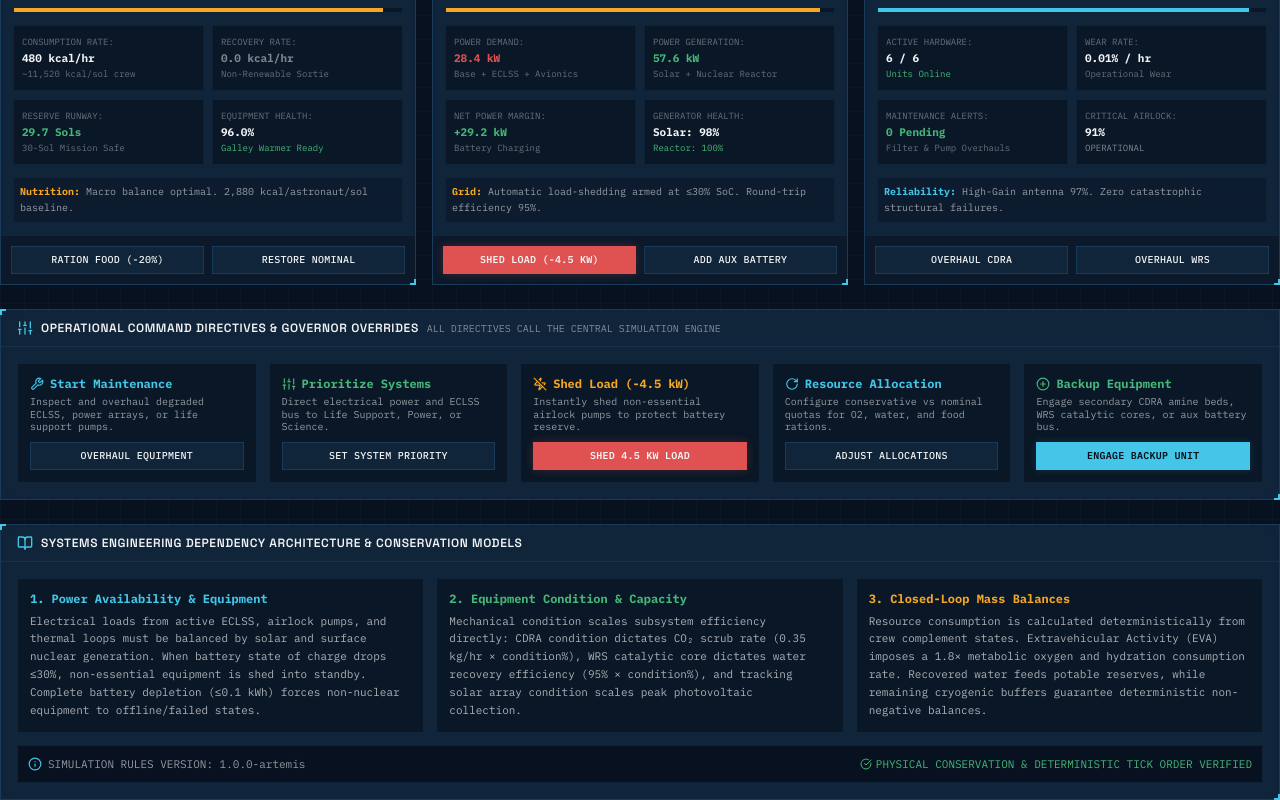
OPERATE Habitat Management Module & Subsystem Dependencies › 4. OPERATE Habitat View UI Rendering & Navigation › opens maintenance overhaul dialog and executes maintenance on equipment
Later steps or results of the test are not shown.
(page scrolled)
Step 1. Click the button "OVERHAUL EQUIPMENT" → (137,456), box [30,442,244,470]
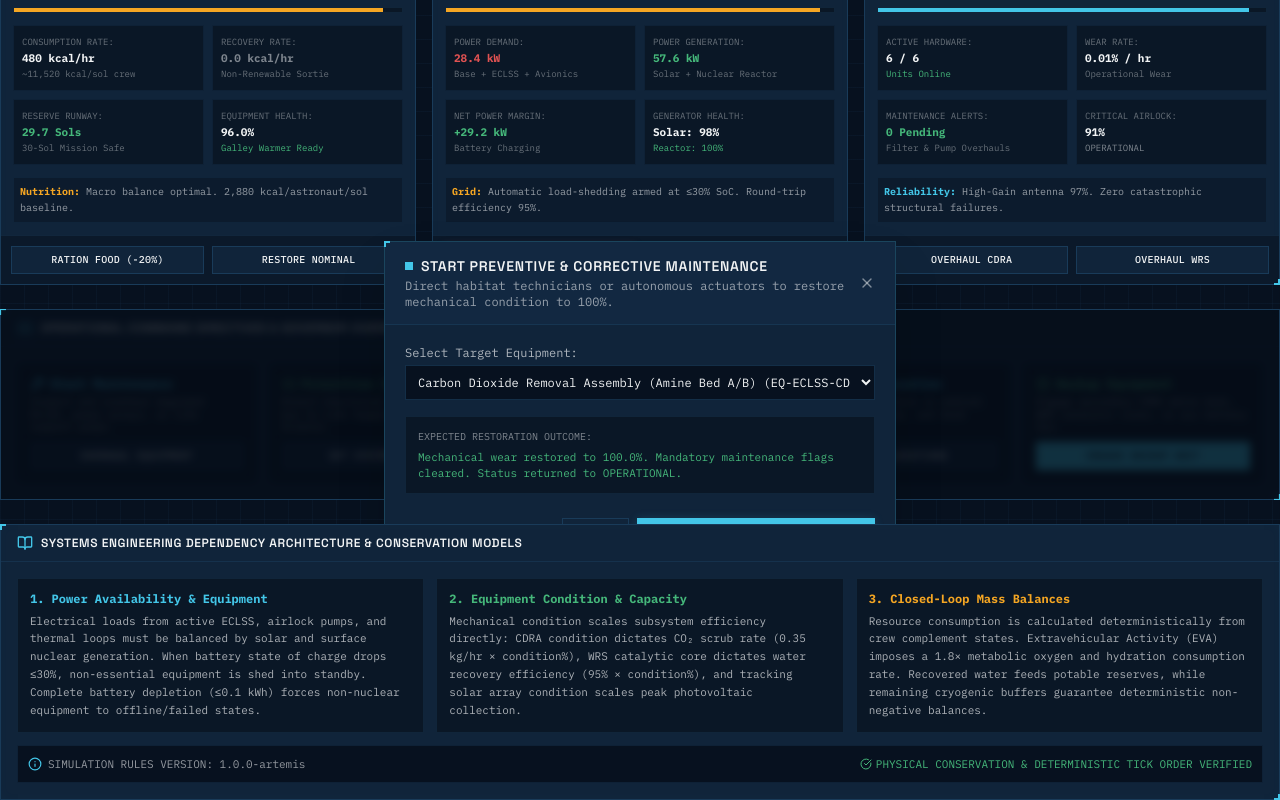
Expected: the heading "START PREVENTIVE & CORRECTIVE MAINTENANCE" is shown, [405,257,768,275]
